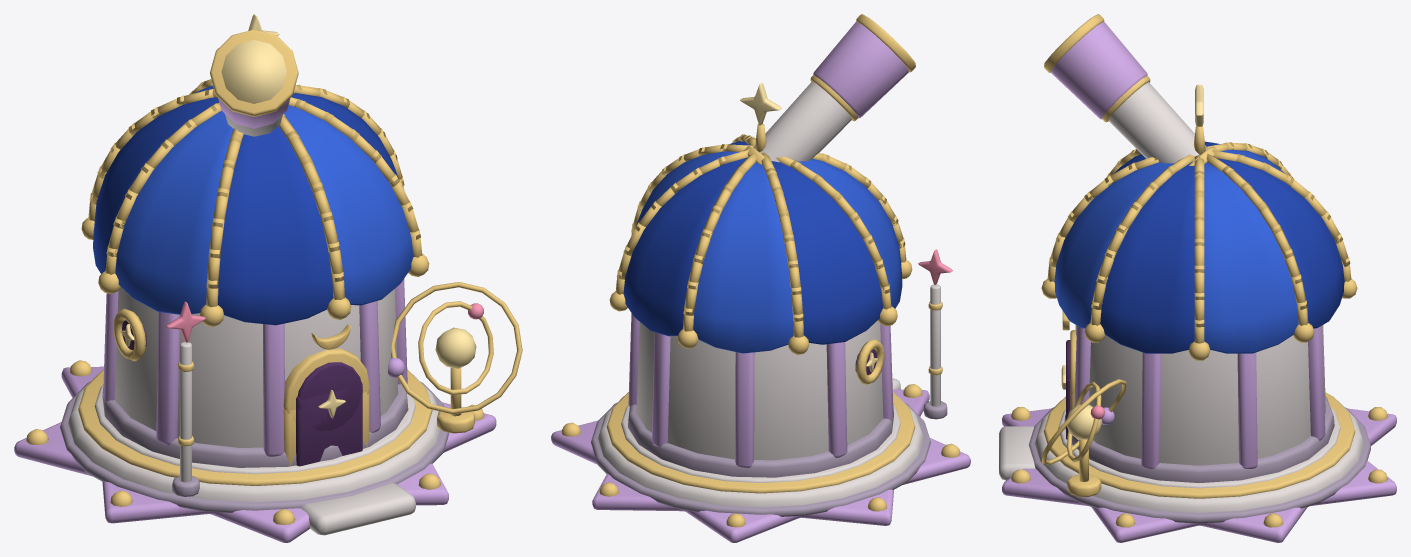
The model's file is Observatory.glb.
3 renders of one model, left to right at view 1: azimuth 30°, elevation 25°; view 2: azimuth 150°, elevation 25°; view 3: azimuth 270°, elevation 25°, orthographic. The views are drawn at different scales.
Parts seen in each view (by area): view 1: Observatory; view 2: Observatory; view 3: Observatory.
Boxes of the visible parts, x1,y1,x2,y2 form: Observatory: (14,14,522,542); Observatory: (551,14,970,542); Observatory: (999,14,1396,542).
Size of the model in its own units: 2.74 by 3.19 by 2.76.
